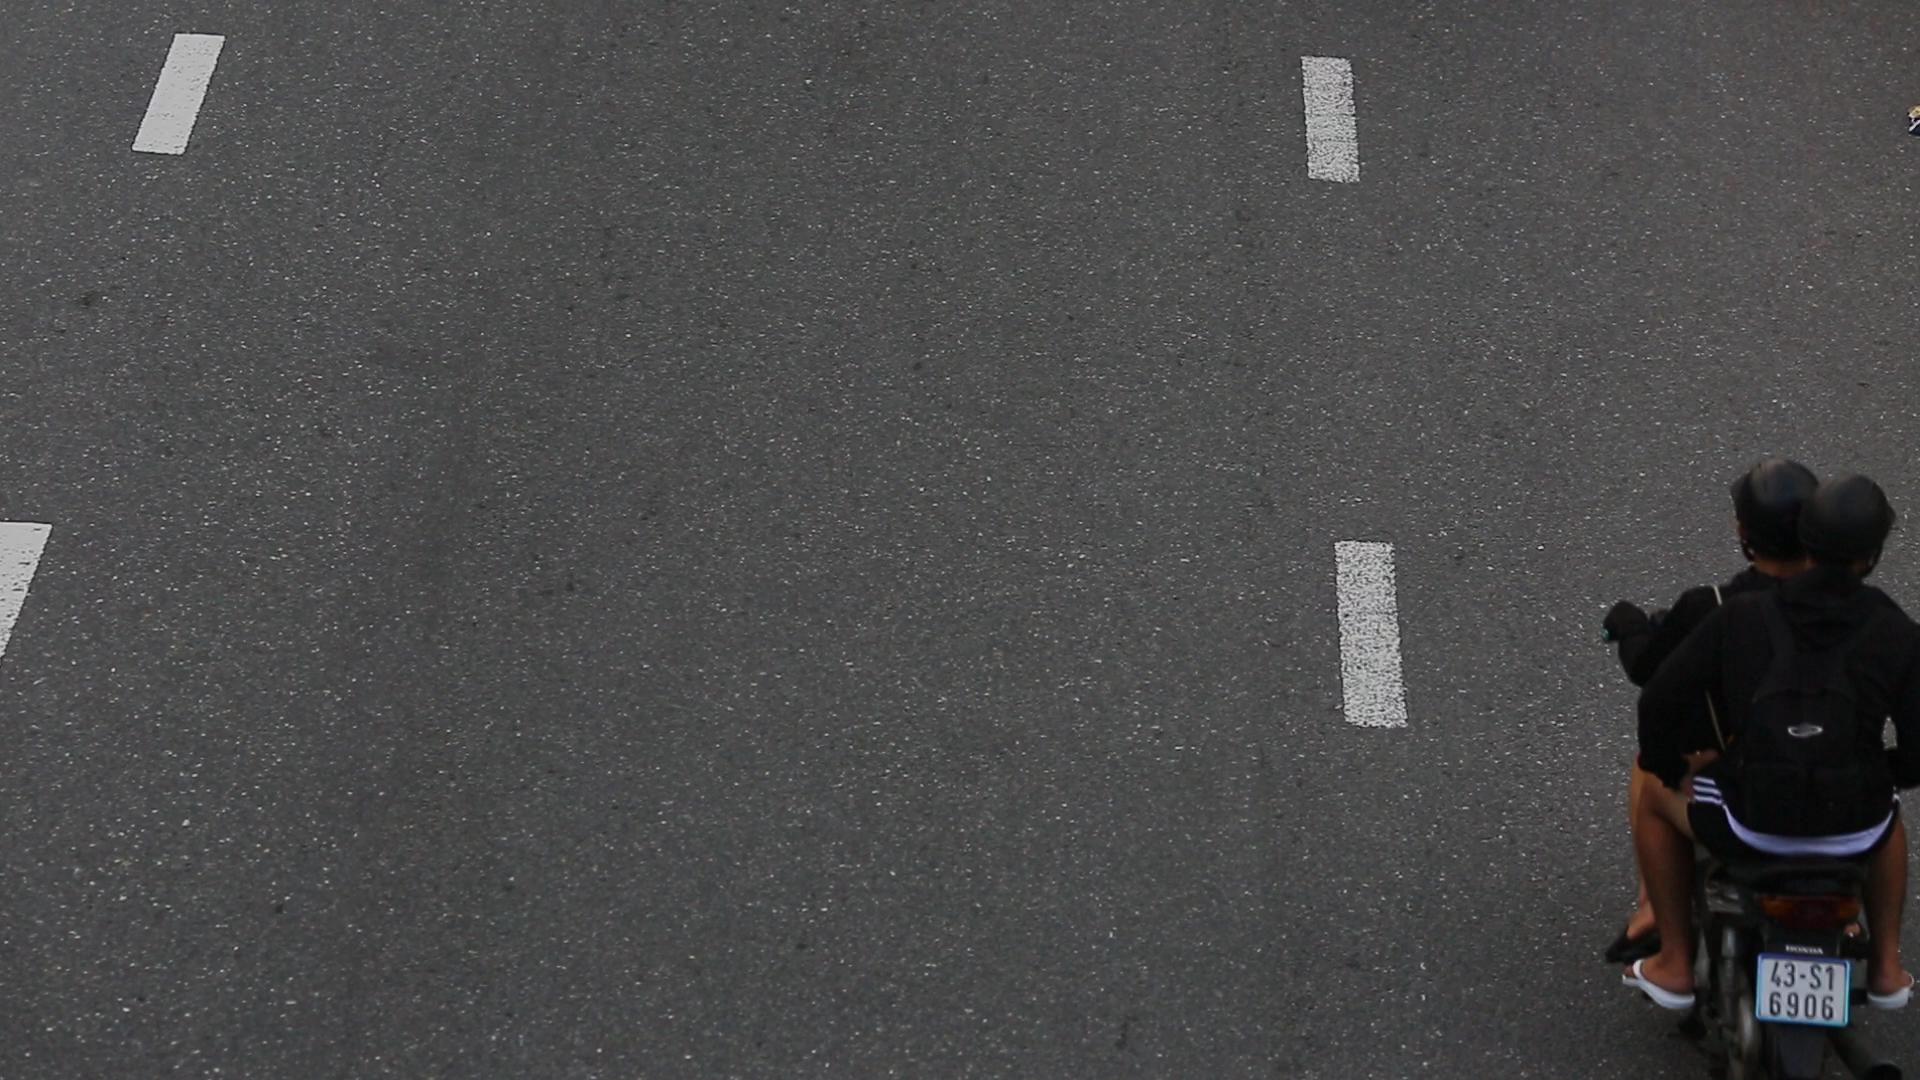motobike: (1611, 448, 1920, 1080)
